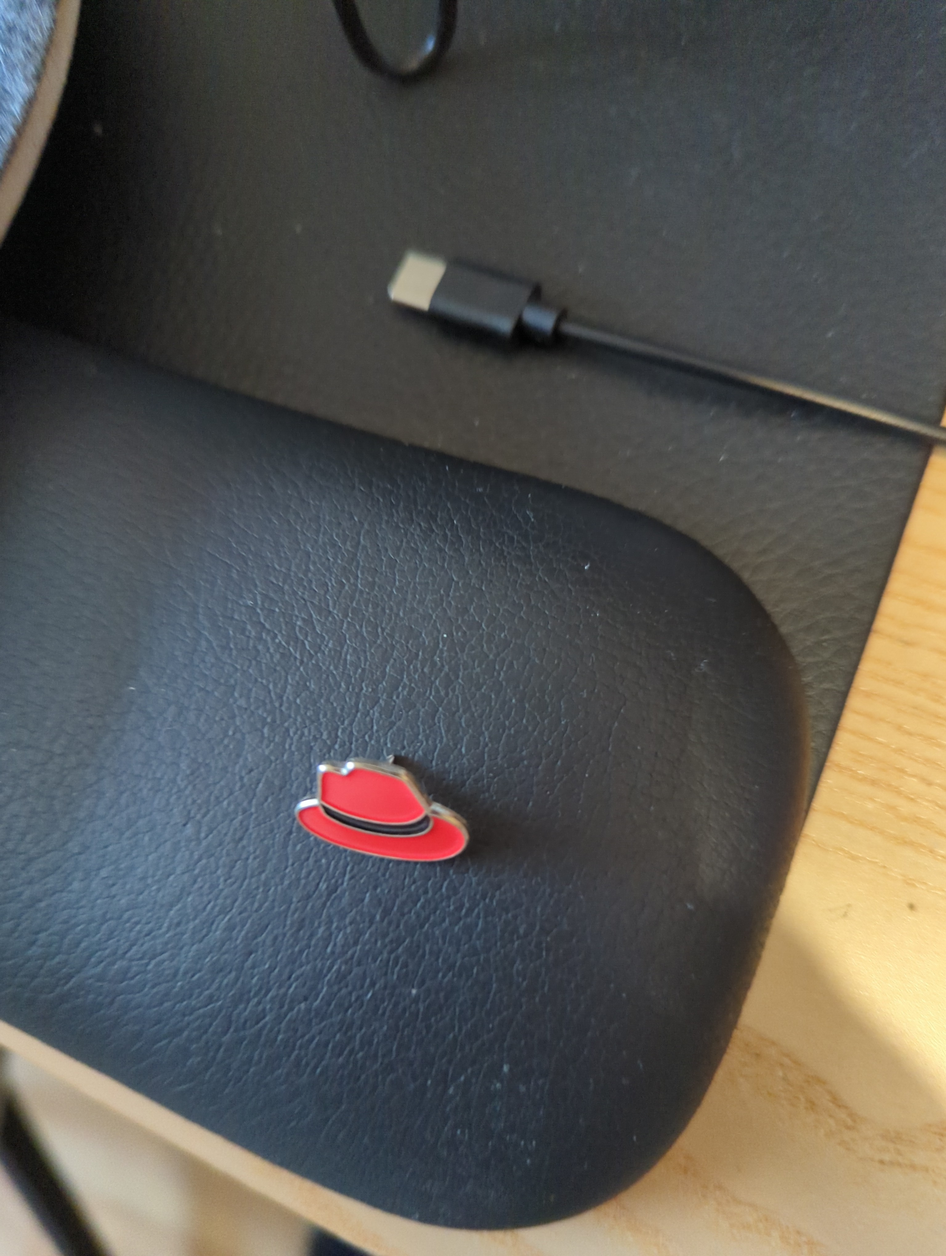Red-Hat: (204, 669, 606, 950)
